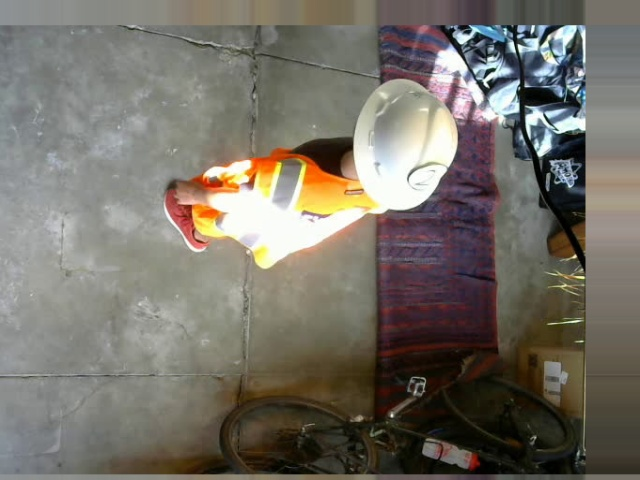two: (407, 163, 445, 190)
